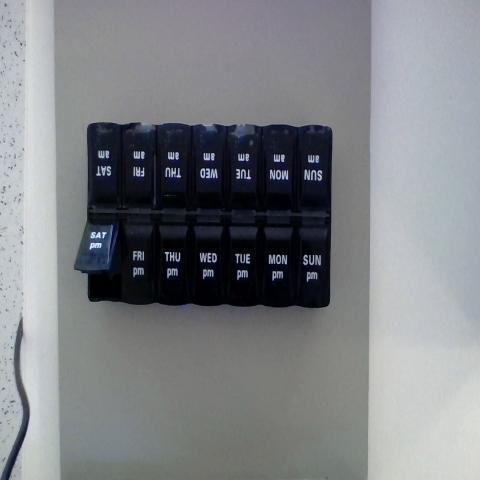FRI-am: (124, 124, 156, 210)
FRI-pm: (119, 220, 155, 303)
MON-am: (263, 126, 296, 207)
MON-pm: (264, 221, 295, 302)
Open: (74, 231, 118, 300)
PillBox: (66, 72, 343, 326)
SAT-am: (88, 124, 121, 206)
SUN-am: (296, 126, 333, 212)
SUN-pm: (299, 223, 329, 303)
THU-am: (158, 123, 191, 209)
THU-pm: (156, 223, 190, 303)
TUE-am: (229, 127, 261, 210)
TUE-pm: (228, 222, 260, 304)
WED-am: (193, 126, 228, 212)
WED-pm: (189, 218, 226, 305)
